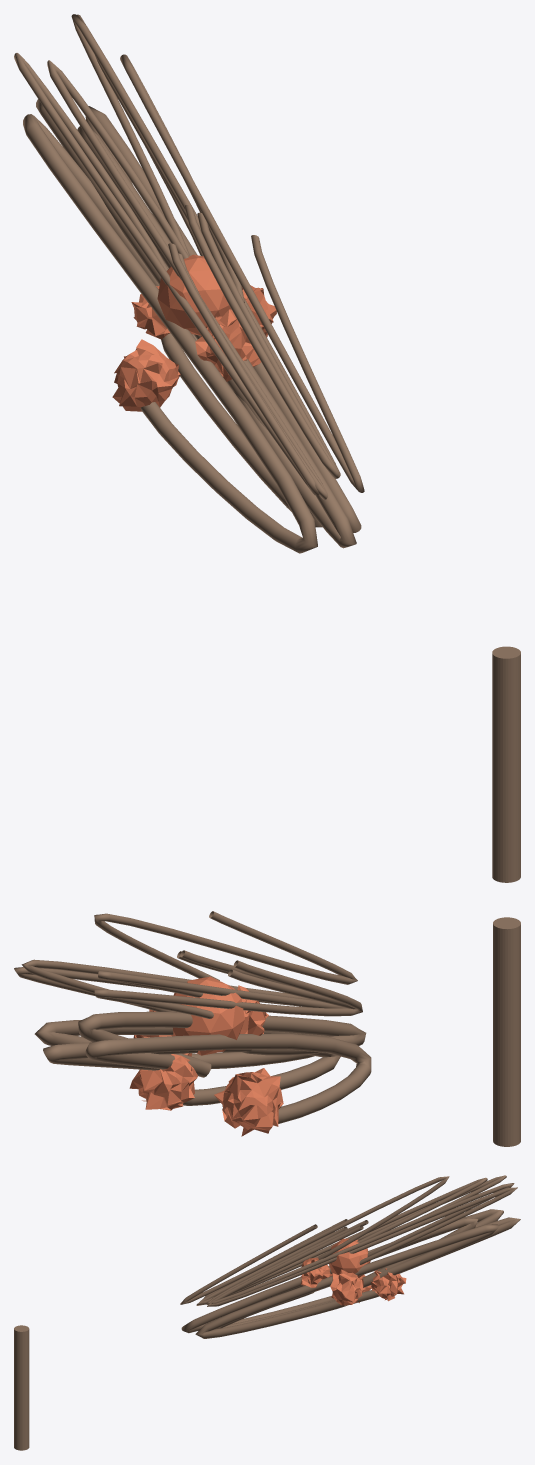
Rendered from maple_growing.glb.
3 renders of one model, top to bottom at view 1: azimuth 30°, elevation 25°; view 2: azimuth 150°, elevation 25°; view 3: azimuth 270°, elevation 25°, orthographic. The views are drawn at different scales.
Parts seen in each view (by area): view 1: MapleGrowing_Branch3.002, MapleGrowing_SubBranch3_1, MapleGrowing_SubBranch2_1, MapleGrowing_SubBranch4_1, MapleGrowing_Trunk.002, MapleGrowing_SubBranch4_2, MapleGrowing_Branch2.002, MapleGrowing_Branch4.002, MapleGrowing_LeafCluster3, MapleGrowing_Branch1.002, MapleGrowing_TopLeaves, MapleGrowing_SubBranch1_1 (+1 smaller); view 2: MapleGrowing_Branch3.002, MapleGrowing_Trunk.002, MapleGrowing_SubBranch4_1, MapleGrowing_Branch4.002, MapleGrowing_SubBranch3_1, MapleGrowing_LeafCluster3, MapleGrowing_SubBranch4_2, MapleGrowing_Branch2.002, MapleGrowing_Branch1.002, MapleGrowing_SubBranch2_1, MapleGrowing_LeafCluster2, MapleGrowing_TopLeaves (+2 smaller); view 3: MapleGrowing_Branch1.002, MapleGrowing_SubBranch1_1, MapleGrowing_SubBranch4_1, MapleGrowing_SubBranch2_1, MapleGrowing_SubBranch4_2, MapleGrowing_Branch4.002, MapleGrowing_Trunk.002, MapleGrowing_SubBranch3_1, MapleGrowing_Branch2.002, MapleGrowing_Branch3.002, MapleGrowing_LeafCluster1, MapleGrowing_TopLeaves (+2 smaller).
Boxes of the visible parts, box(x1,y1,x2,y2) form: MapleGrowing_Branch3.002: box(23, 114, 317, 553); MapleGrowing_SubBranch3_1: box(14, 53, 319, 495); MapleGrowing_SubBranch2_1: box(71, 14, 337, 476); MapleGrowing_SubBranch4_1: box(120, 54, 364, 492); MapleGrowing_Trunk.002: box(492, 646, 520, 882); MapleGrowing_SubBranch4_2: box(47, 60, 327, 499); MapleGrowing_Branch2.002: box(36, 99, 322, 527); MapleGrowing_Branch4.002: box(77, 126, 356, 548); MapleGrowing_LeafCluster3: box(112, 339, 180, 411); MapleGrowing_Branch1.002: box(85, 106, 361, 532); MapleGrowing_TopLeaves: box(157, 254, 231, 335); MapleGrowing_SubBranch1_1: box(77, 14, 340, 478); MapleGrowing_Branch3.002: box(85, 1033, 371, 1123); MapleGrowing_Trunk.002: box(493, 917, 520, 1146); MapleGrowing_SubBranch4_1: box(94, 911, 357, 984); MapleGrowing_Branch4.002: box(78, 1011, 366, 1063); MapleGrowing_SubBranch3_1: box(94, 960, 362, 1018); MapleGrowing_LeafCluster3: box(214, 1068, 283, 1136); MapleGrowing_SubBranch4_2: box(98, 969, 356, 1009); MapleGrowing_Branch2.002: box(43, 1042, 340, 1105); MapleGrowing_Branch1.002: box(34, 1020, 328, 1068); MapleGrowing_SubBranch2_1: box(21, 950, 315, 1011); MapleGrowing_LeafCluster2: box(129, 1054, 197, 1110); MapleGrowing_TopLeaves: box(172, 976, 244, 1055); MapleGrowing_Branch1.002: box(195, 1224, 498, 1338); MapleGrowing_SubBranch1_1: box(207, 1187, 517, 1306); MapleGrowing_SubBranch4_1: box(180, 1176, 449, 1304); MapleGrowing_SubBranch2_1: box(206, 1183, 514, 1304); MapleGrowing_SubBranch4_2: box(196, 1177, 487, 1305); MapleGrowing_Branch4.002: box(181, 1218, 478, 1333); MapleGrowing_Trunk.002: box(14, 1325, 29, 1450); MapleGrowing_SubBranch3_1: box(204, 1175, 506, 1297); MapleGrowing_Branch2.002: box(216, 1217, 520, 1328); MapleGrowing_Branch3.002: box(233, 1209, 503, 1323); MapleGrowing_LeafCluster1: box(330, 1269, 363, 1305); MapleGrowing_TopLeaves: box(329, 1238, 370, 1277).
Bounding box in the file's own units: 0.8569 × 2.79 × 4.64.
